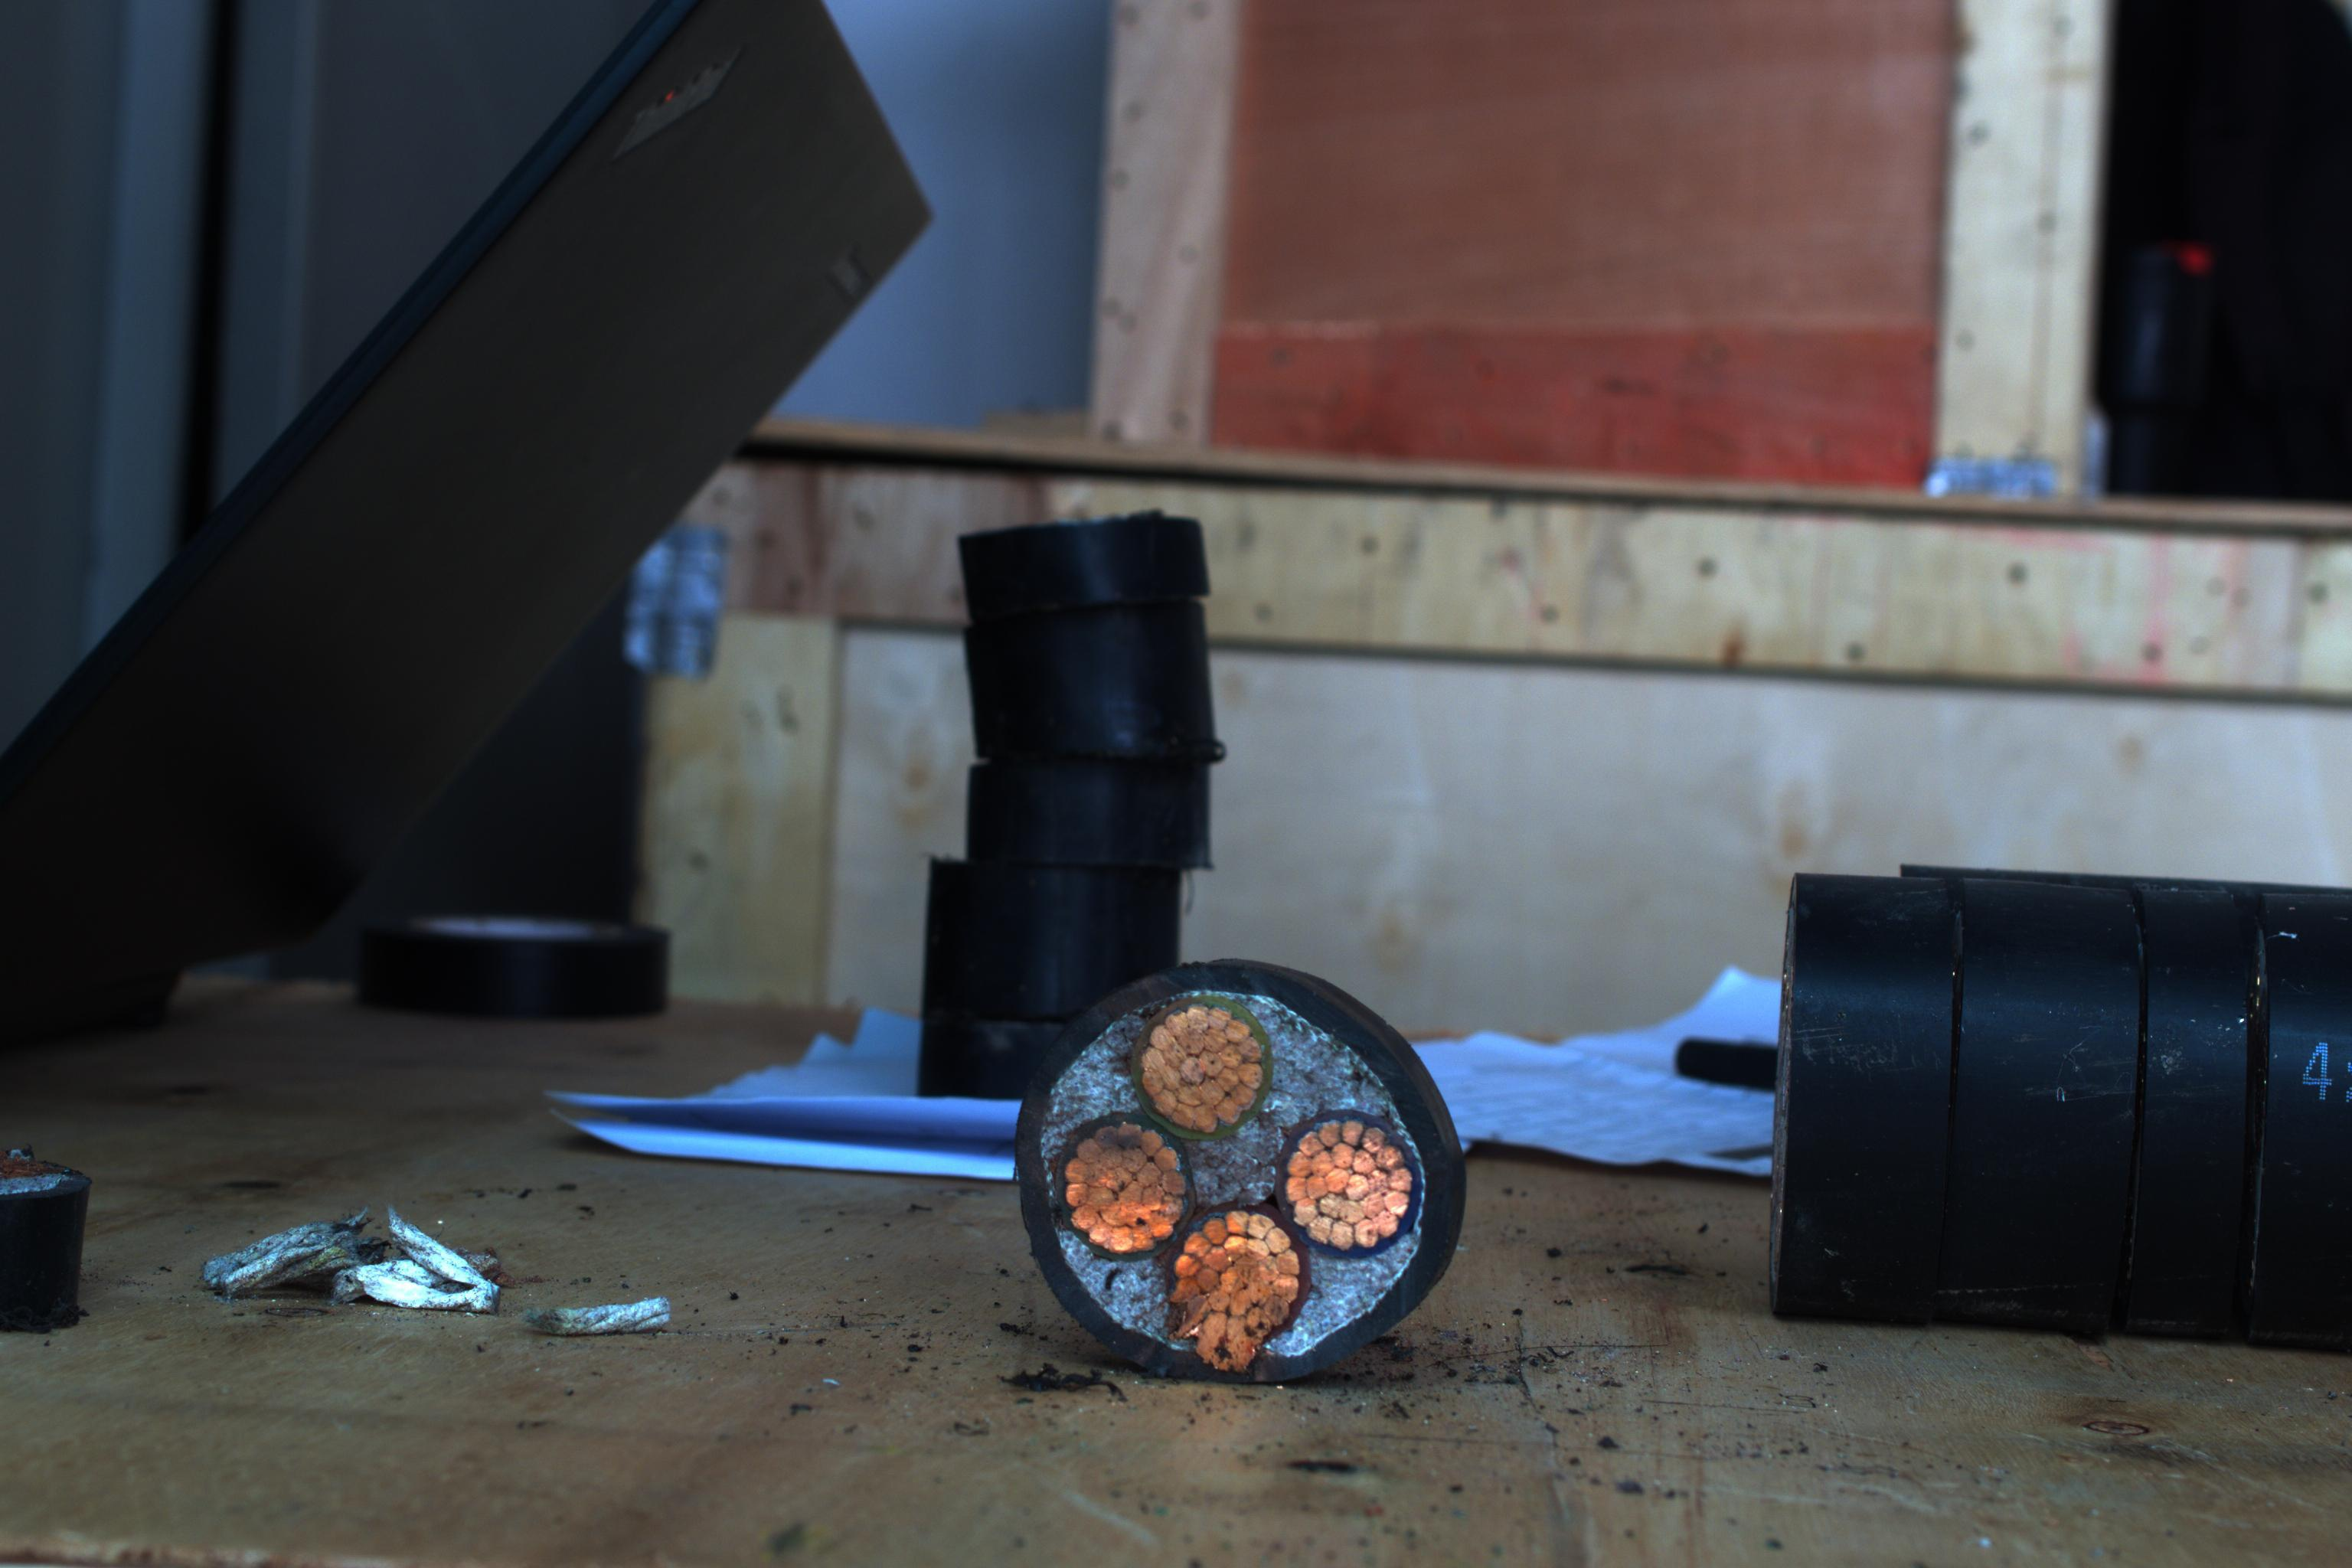YJV_0.6_1kV_4x120: (1006, 962, 1447, 1379)
